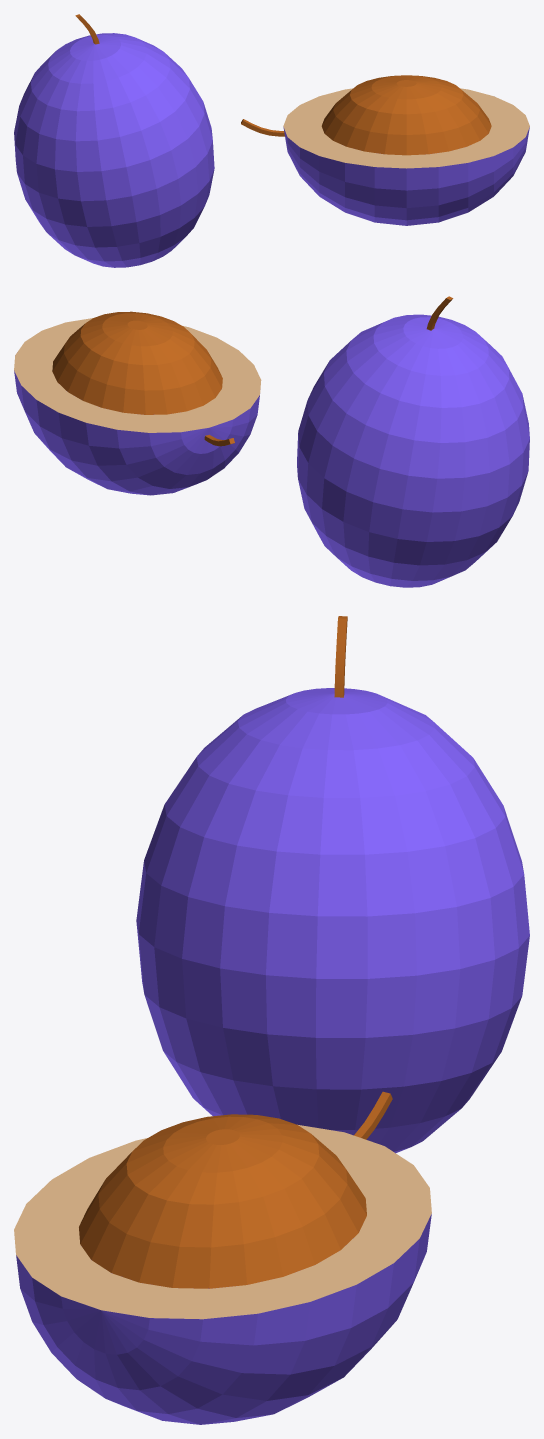
Rendered from plum-3.glb.
3 renders of one model, top to bottom at view 1: azimuth 30°, elevation 25°; view 2: azimuth 150°, elevation 25°; view 3: azimuth 270°, elevation 25°, orthographic. The views are drawn at different scales.
Visible parts, largest first — view 1: Object_4, Object_5, Object_6; view 2: Object_4, Object_5, Object_6; view 3: Object_4, Object_5, Object_6.
Boxes of the visible parts, <box> form: Object_4: <box>14,33,529,267</box>; Object_5: <box>75,14,491,155</box>; Object_6: <box>283,88,529,168</box>; Object_4: <box>14,314,529,587</box>; Object_5: <box>52,296,453,446</box>; Object_6: <box>14,318,261,432</box>; Object_4: <box>16,688,529,1424</box>; Object_5: <box>79,616,392,1288</box>; Object_6: <box>14,1124,431,1319</box>.
Bounding box in the file's own units: 3725721 × 1979888 × 1863228.
